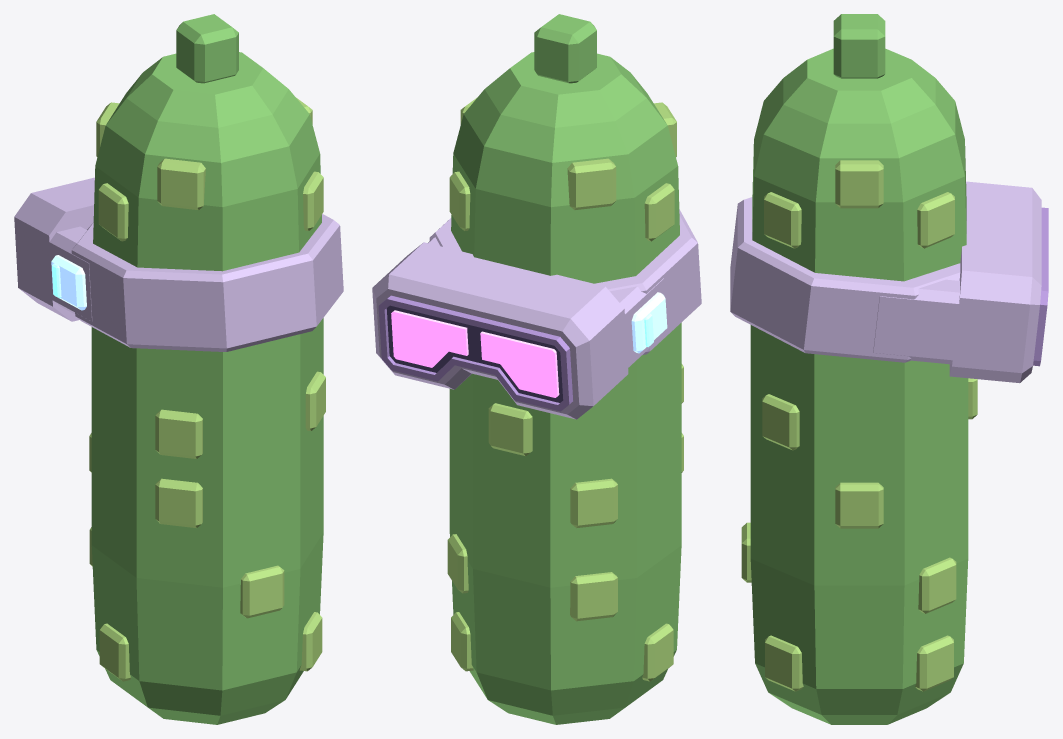
The model's file is NeonCyberCucumber.fbx.
3 renders of one model, left to right at view 1: azimuth 30°, elevation 25°; view 2: azimuth 150°, elevation 25°; view 3: azimuth 270°, elevation 25°, orthographic.
Parts seen in each view (by area): view 1: NeonCyberCucumber.Body, NeonCyberCucumber.Goggles, NeonCyberCucumber.Studs, NeonCyberCucumber.SideLight; view 2: NeonCyberCucumber.Body, NeonCyberCucumber.Goggles, NeonCyberCucumber.Studs, NeonCyberCucumber.LensGlow, NeonCyberCucumber.GoggleRim, NeonCyberCucumber.Lenses, NeonCyberCucumber.SideLight; view 3: NeonCyberCucumber.Body, NeonCyberCucumber.Goggles, NeonCyberCucumber.Studs, NeonCyberCucumber.GoggleRim.
Part boxes in pixels (<box>): NeonCyberCucumber.Body: <box>91,14,323,724</box>; NeonCyberCucumber.Goggles: <box>14,177,343,351</box>; NeonCyberCucumber.Studs: <box>89,97,325,681</box>; NeonCyberCucumber.SideLight: <box>51,255,86,310</box>; NeonCyberCucumber.Body: <box>449,14,681,724</box>; NeonCyberCucumber.Goggles: <box>372,209,701,419</box>; NeonCyberCucumber.Studs: <box>447,97,683,681</box>; NeonCyberCucumber.LensGlow: <box>391,310,559,397</box>; NeonCyberCucumber.GoggleRim: <box>378,295,572,411</box>; NeonCyberCucumber.Lenses: <box>386,305,563,402</box>; NeonCyberCucumber.SideLight: <box>631,292,667,353</box>; NeonCyberCucumber.Body: <box>750,14,968,724</box>; NeonCyberCucumber.Goggles: <box>730,181,1041,383</box>; NeonCyberCucumber.Studs: <box>741,160,977,691</box>; NeonCyberCucumber.GoggleRim: <box>1033,207,1048,366</box>.
Size of the model in its own units: 1.53 by 4.3 by 1.84.
